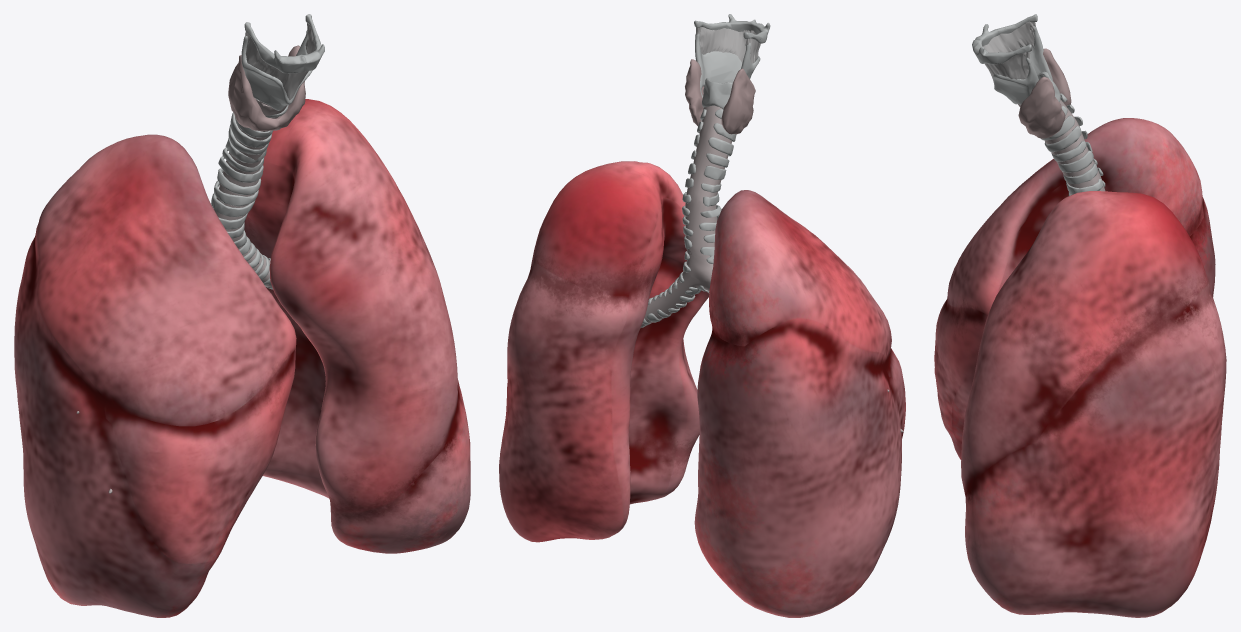
File: pulmon.glb
The picture shows the model from 3 angles, left to right: view 1: azimuth 30°, elevation 25°; view 2: azimuth 150°, elevation 25°; view 3: azimuth 270°, elevation 25°; orthographic projection. The views are drawn at different scales.
Visible parts, largest first — view 1: pulmon_derecho, pulmon_izquierdo, traquea, laringe, glandula_tiroides; view 2: pulmon_derecho, pulmon_izquierdo, traquea, laringe, glandula_tiroides; view 3: pulmon_izquierdo, pulmon_derecho, laringe, traquea, glandula_tiroides.
Part boxes in pixels (x1,y1,x2,y2): pulmon_derecho: (14, 134, 296, 617); pulmon_izquierdo: (244, 99, 470, 553); traquea: (76, 99, 287, 493); laringe: (241, 14, 324, 117); glandula_tiroides: (228, 45, 305, 131); pulmon_derecho: (694, 190, 905, 617); pulmon_izquierdo: (499, 161, 709, 542); traquea: (640, 105, 903, 432); laringe: (694, 14, 770, 109); glandula_tiroides: (685, 59, 755, 134); pulmon_izquierdo: (961, 191, 1226, 617); pulmon_derecho: (934, 118, 1215, 459); laringe: (972, 14, 1060, 104); traquea: (1018, 93, 1105, 195); glandula_tiroides: (1018, 48, 1071, 138).
Bounding box in the file's own units: 42.4 × 59.79 × 29.55.
6 materials, 1 textured.
